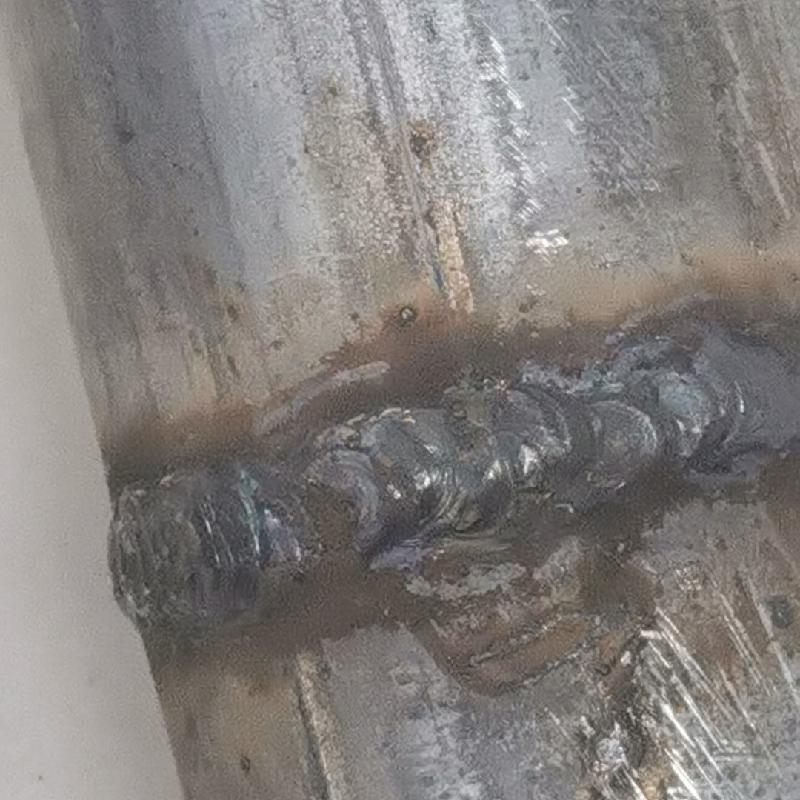good: (88, 362, 799, 622)
